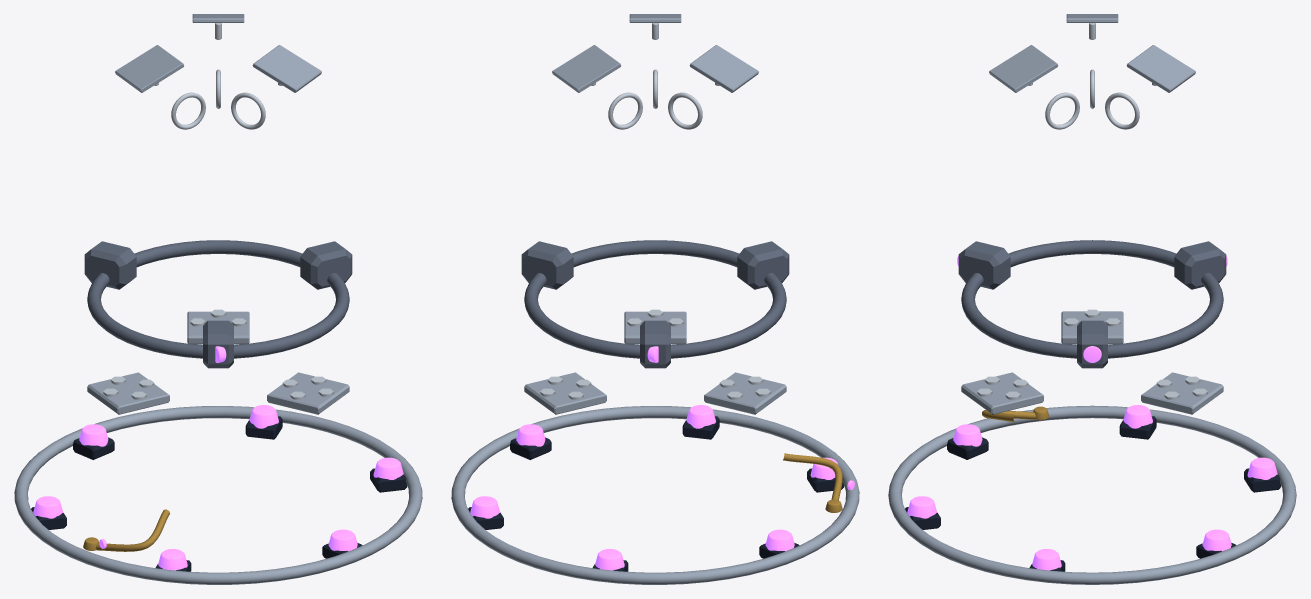
The model's file is tower_singularity_range_s7.glb.
3 renders of one model, left to right at view 1: azimuth 30°, elevation 25°; view 2: azimuth 150°, elevation 25°; view 3: azimuth 270°, elevation 25°, orthographic.
Visible parts, largest first — view 1: singularity_projector_ring, singularity_collar_ring, singularity_collar_pod1, singularity_collar_pod0, singularity_foot_plate0, singularity_foot_plate1, singularity_reflector0, singularity_reflector1, singularity_collar_pod2, singularity_foot_plate2, singularity_projector_conduit, singularity_projector_node1 (+8 smaller); view 2: singularity_projector_ring, singularity_collar_ring, singularity_collar_pod2, singularity_collar_pod1, singularity_foot_plate0, singularity_foot_plate2, singularity_reflector0, singularity_reflector2, singularity_collar_pod0, singularity_foot_plate1, singularity_projector_conduit, singularity_projector_node3 (+7 smaller); view 3: singularity_projector_ring, singularity_collar_ring, singularity_collar_pod0, singularity_collar_pod2, singularity_foot_plate1, singularity_foot_plate2, singularity_reflector1, singularity_reflector2, singularity_collar_pod1, singularity_foot_plate0, singularity_projector_node5, singularity_projector_node0 (+7 smaller).
Part boxes in pixels (box(x1,y1,x2,y2)): singularity_projector_ring: box(14, 406, 422, 584); singularity_collar_ring: box(87, 240, 349, 358); singularity_collar_pod1: box(300, 241, 352, 289); singularity_collar_pod0: box(84, 241, 136, 289); singularity_foot_plate0: box(87, 372, 169, 414); singularity_foot_plate1: box(267, 372, 349, 414); singularity_reflector0: box(115, 45, 184, 92); singularity_reflector1: box(252, 45, 321, 92); singularity_collar_pod2: box(203, 320, 233, 368); singularity_foot_plate2: box(187, 311, 249, 344); singularity_projector_conduit: box(95, 509, 169, 551); singularity_projector_node1: box(79, 424, 108, 446); singularity_projector_ring: box(451, 406, 859, 584); singularity_collar_ring: box(524, 240, 786, 358); singularity_collar_pod2: box(737, 241, 789, 289); singularity_collar_pod1: box(521, 241, 573, 289); singularity_foot_plate0: box(704, 372, 786, 414); singularity_foot_plate2: box(524, 372, 606, 414); singularity_reflector0: box(689, 45, 758, 92); singularity_reflector2: box(552, 45, 621, 92); singularity_collar_pod0: box(640, 320, 670, 368); singularity_foot_plate1: box(624, 311, 686, 344); singularity_projector_conduit: box(783, 453, 842, 500); singularity_projector_node3: box(516, 424, 545, 446); singularity_projector_ring: box(888, 405, 1296, 584); singularity_collar_ring: box(961, 240, 1223, 358); singularity_collar_pod0: box(1174, 241, 1226, 289); singularity_collar_pod2: box(958, 241, 1010, 289); singularity_foot_plate1: box(961, 372, 1043, 414); singularity_foot_plate2: box(1141, 372, 1223, 414); singularity_reflector1: box(989, 45, 1058, 92); singularity_reflector2: box(1126, 45, 1195, 92); singularity_collar_pod1: box(1077, 320, 1107, 368); singularity_foot_plate0: box(1061, 311, 1123, 344); singularity_projector_node5: box(953, 424, 982, 446); singularity_projector_node0: box(1123, 405, 1152, 428).
Size of the model in its own units: 2.36 by 2.95 by 2.36.
